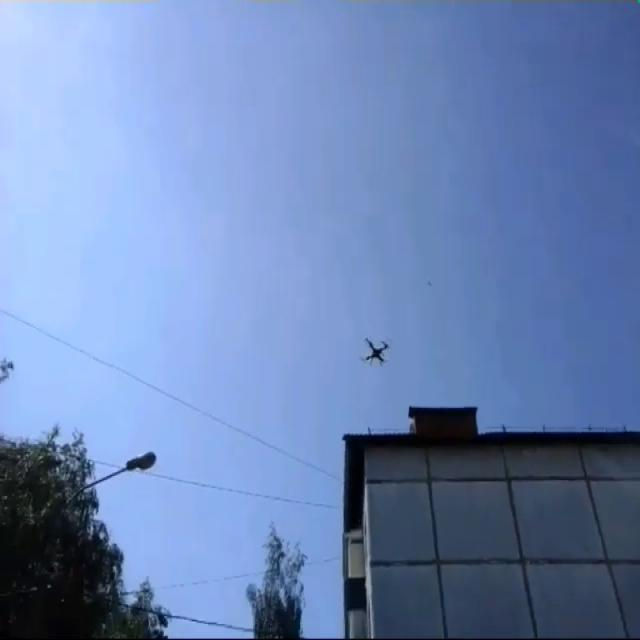Birds: (421, 278, 434, 290)
Drons: (352, 330, 396, 370)
